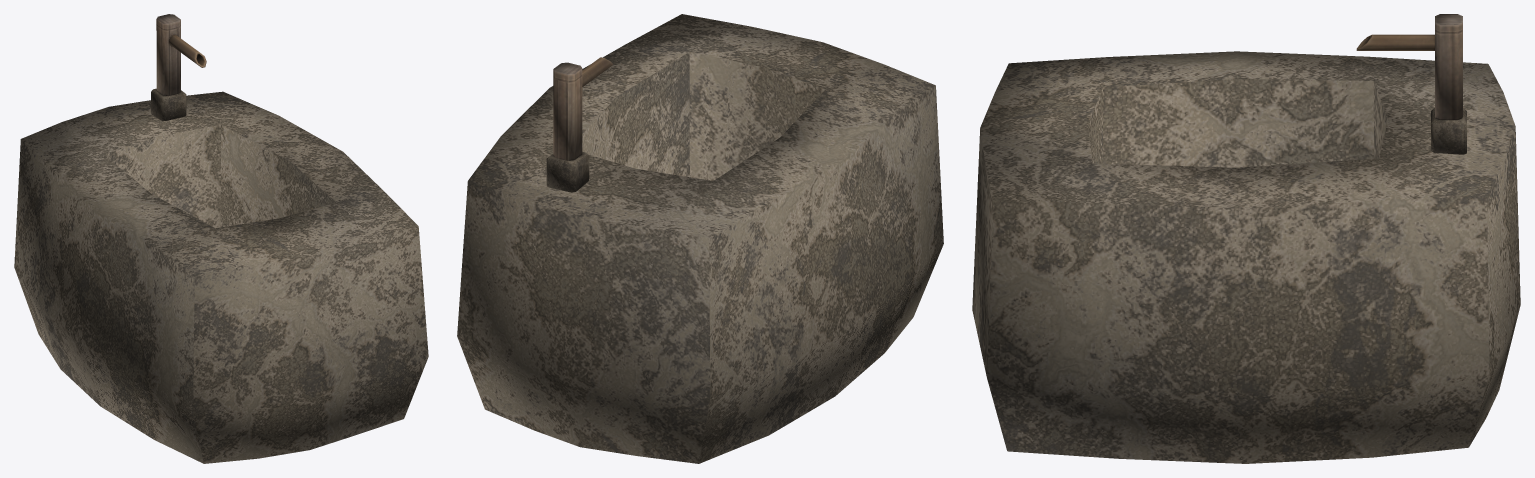
File: jov_fountain02.fbx
3 views of the same model, side by side, from view 1: azimuth 30°, elevation 25°; view 2: azimuth 150°, elevation 25°; view 3: azimuth 270°, elevation 25° (orthographic). The views are drawn at different scales.
Parts seen in each view (by area): view 1: jov_fountain02; view 2: jov_fountain02; view 3: jov_fountain02.
Boxes of the visible parts, bbox=[...] form: jov_fountain02: bbox=[14, 14, 428, 463]; jov_fountain02: bbox=[457, 14, 943, 463]; jov_fountain02: bbox=[972, 14, 1520, 463].
Bounding box in the file's own units: 148 × 157 × 197.
